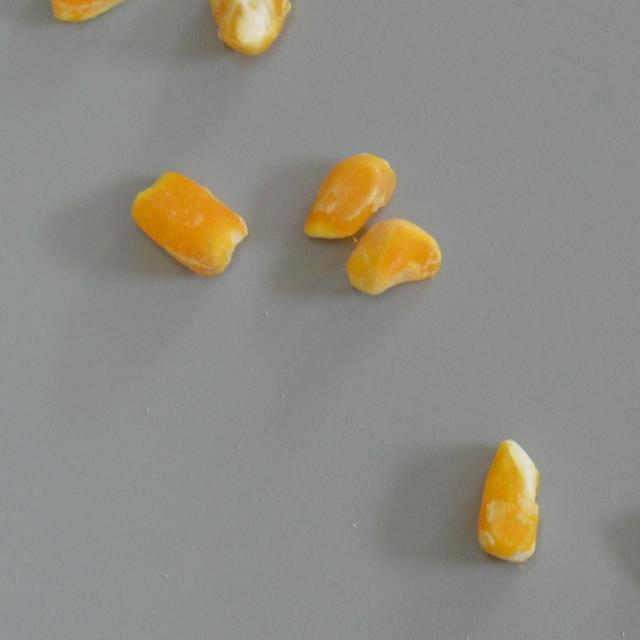pelicula: (128, 170, 250, 277), (304, 150, 397, 244), (476, 438, 544, 564), (344, 212, 442, 299), (204, 0, 298, 56), (44, 0, 142, 26)
